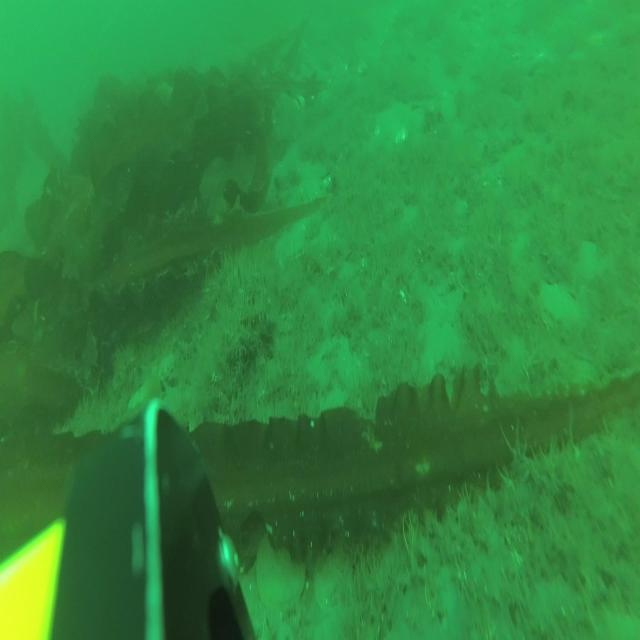scallop: (254, 533, 306, 607)
